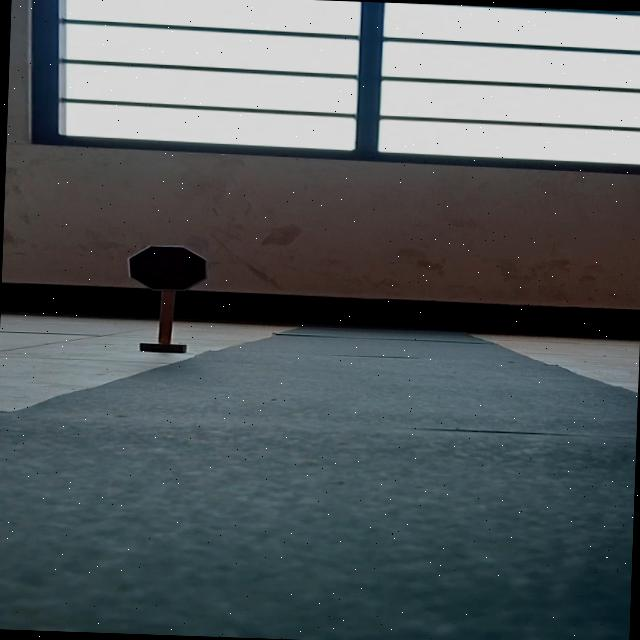Stop: (125, 244, 208, 292)
